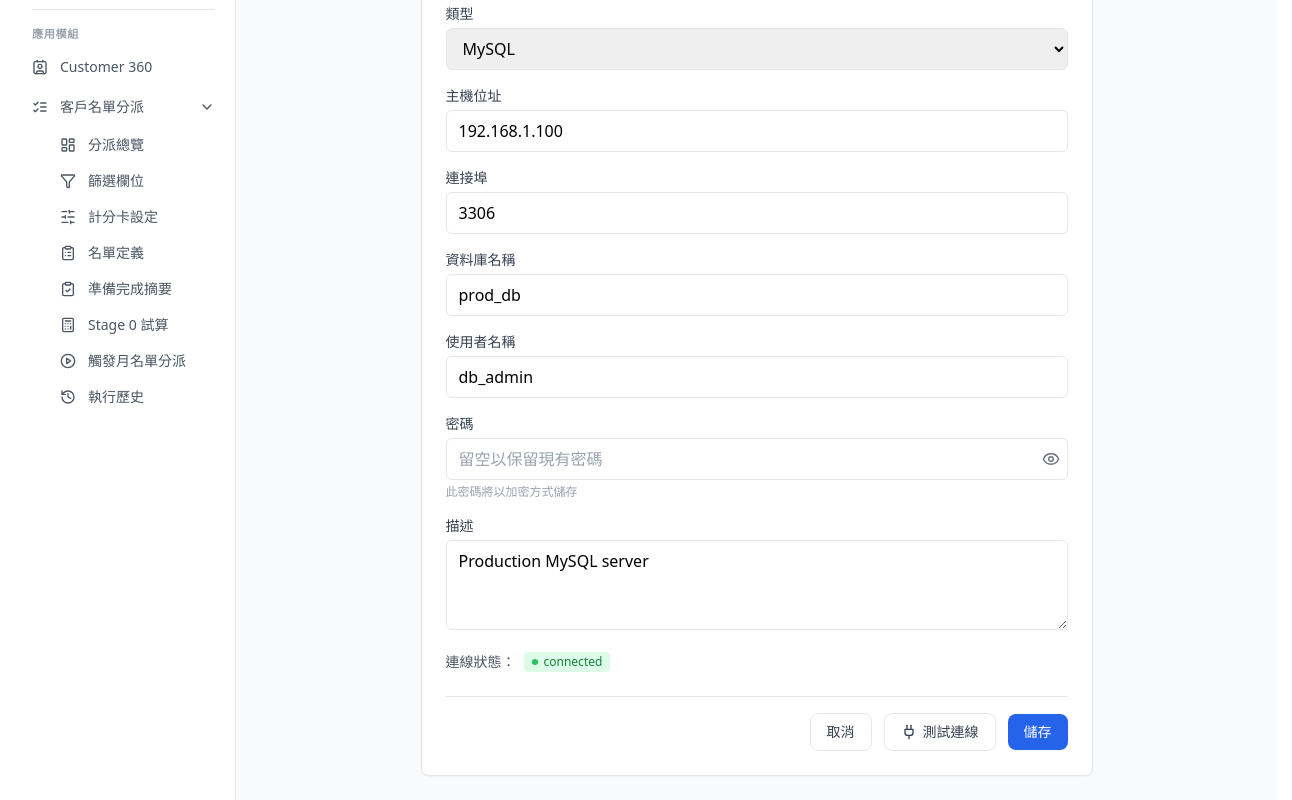
Test: EditDatasourcePage › 測試連線 › 點擊測試連線成功後顯示成功 Toast
(page scrolled)
Click the button "測試連線" at (940, 732), box [884,713,996,751]
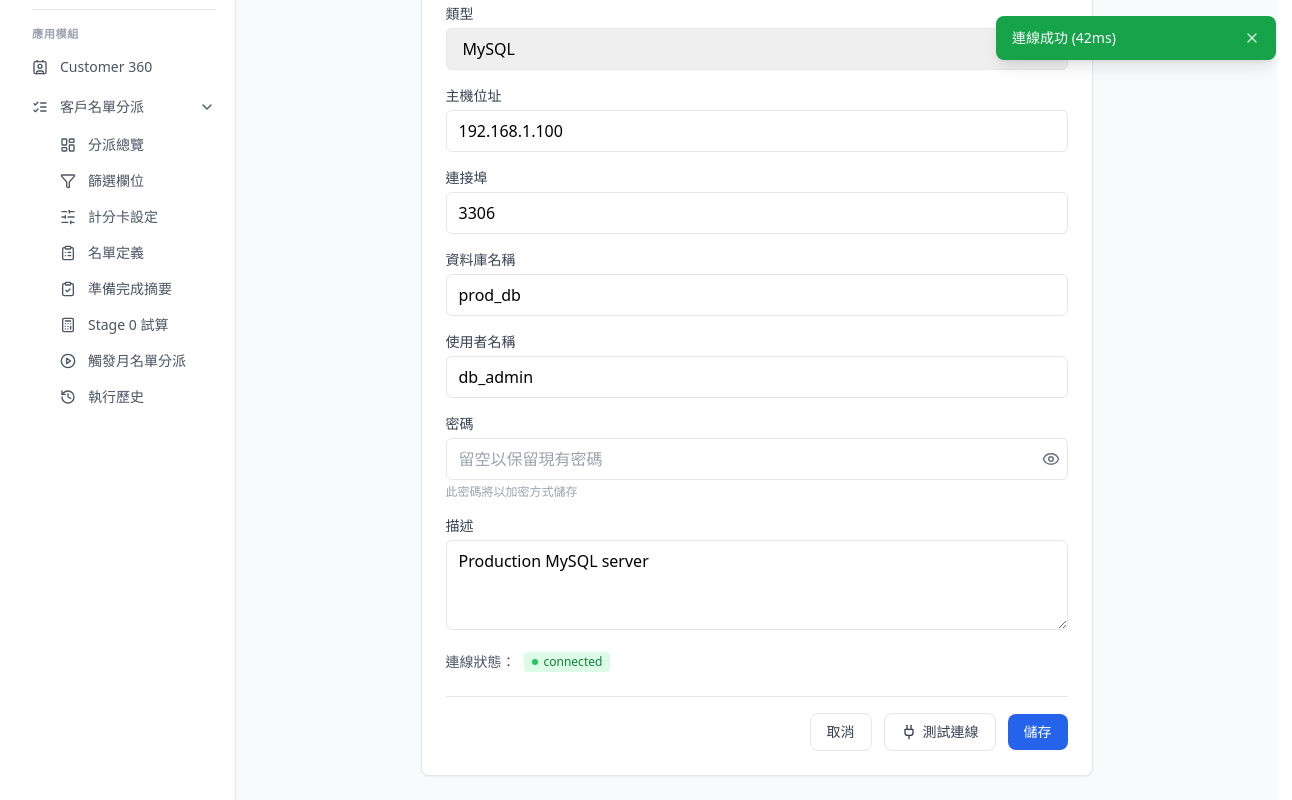
Expected: the text "連線成功 (42ms)" is shown, [1012,28,1116,47]
